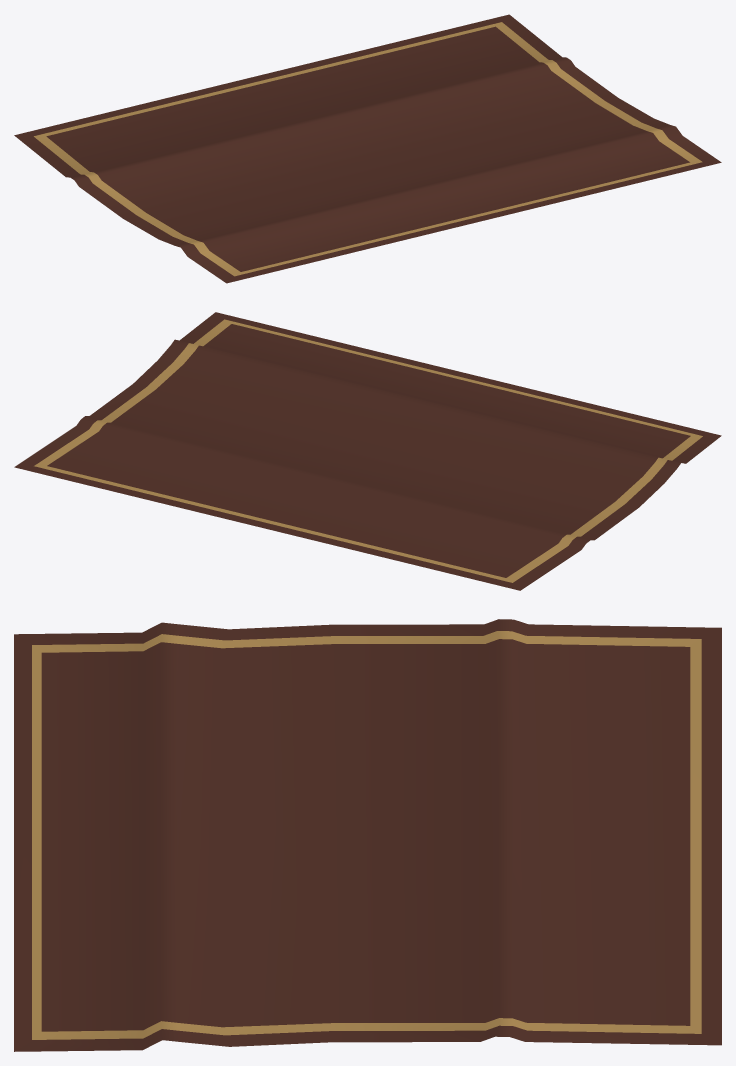
Rendered from decor-rug.glb.
3 renders of one model, top to bottom at view 1: azimuth 30°, elevation 25°; view 2: azimuth 150°, elevation 25°; view 3: azimuth 270°, elevation 25°, orthographic. The views are drawn at different scales.
Visible parts, largest first — view 1: Carpet_1; view 2: Carpet_1; view 3: Carpet_1.
Boxes of the visible parts, box(x1,y1,x2,y2) form: Carpet_1: box(14, 14, 721, 283); Carpet_1: box(14, 312, 721, 590); Carpet_1: box(14, 619, 721, 1051).
Bounding box in the file's own units: 2 × 0.02 × 1.4.
